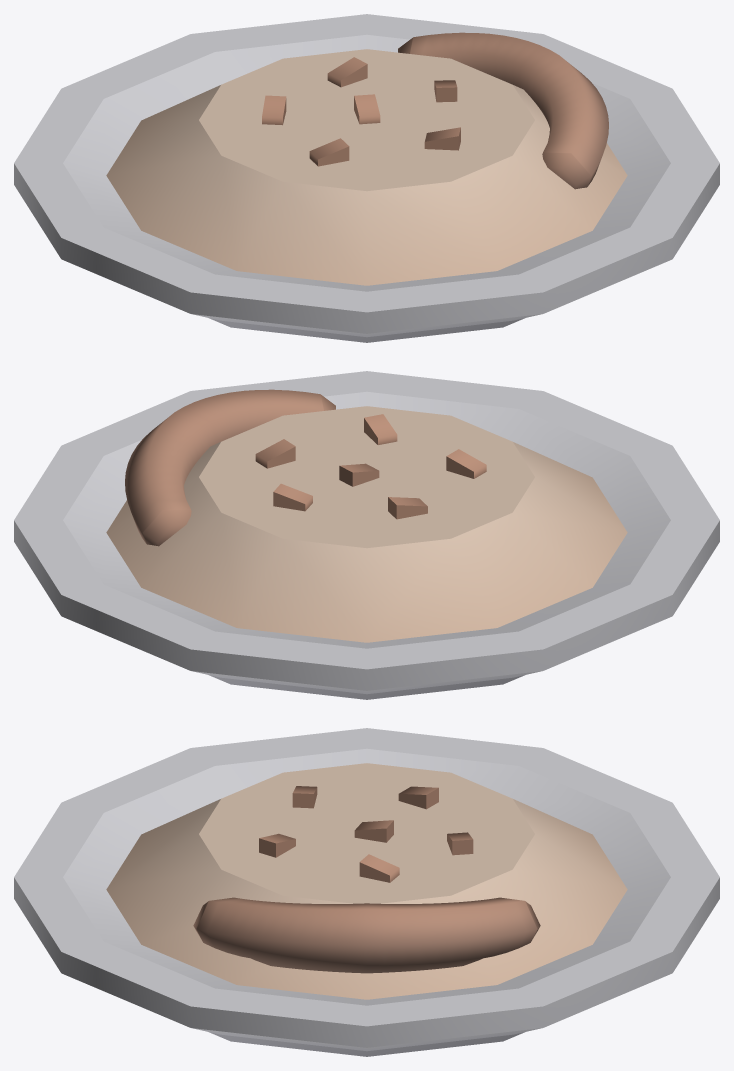
Rendered from plate-sauerkraut.glb.
3 renders of one model, top to bottom at view 1: azimuth 30°, elevation 25°; view 2: azimuth 150°, elevation 25°; view 3: azimuth 270°, elevation 25°, orthographic.
Parts seen in each view (by area): view 1: plate-sauerkraut; view 2: plate-sauerkraut; view 3: plate-sauerkraut.
Boxes of the visible parts, <box> form: plate-sauerkraut: <box>14,14,719,342</box>; plate-sauerkraut: <box>14,371,719,699</box>; plate-sauerkraut: <box>14,728,719,1056</box>.
Bounding box in the file's own units: 0.8918 × 0.1752 × 0.8918.
